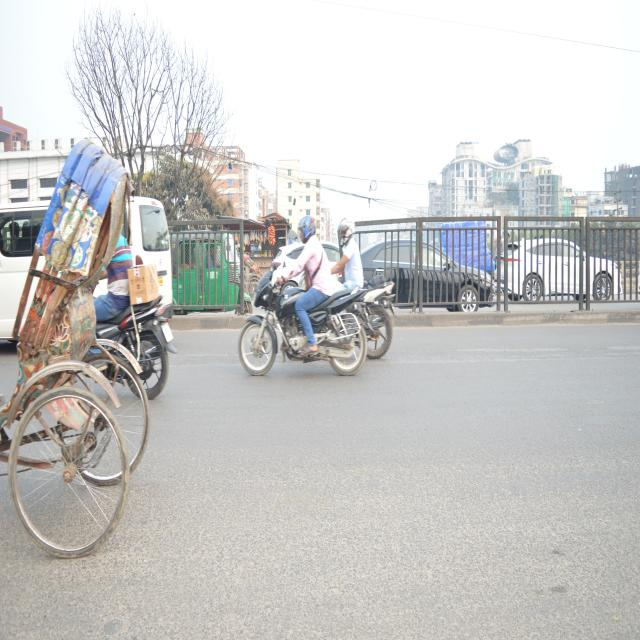car: (355, 236, 495, 318), (500, 237, 625, 304)
microbus: (0, 195, 186, 347)
motorbike: (245, 276, 365, 379), (82, 292, 175, 397), (338, 282, 396, 359)
